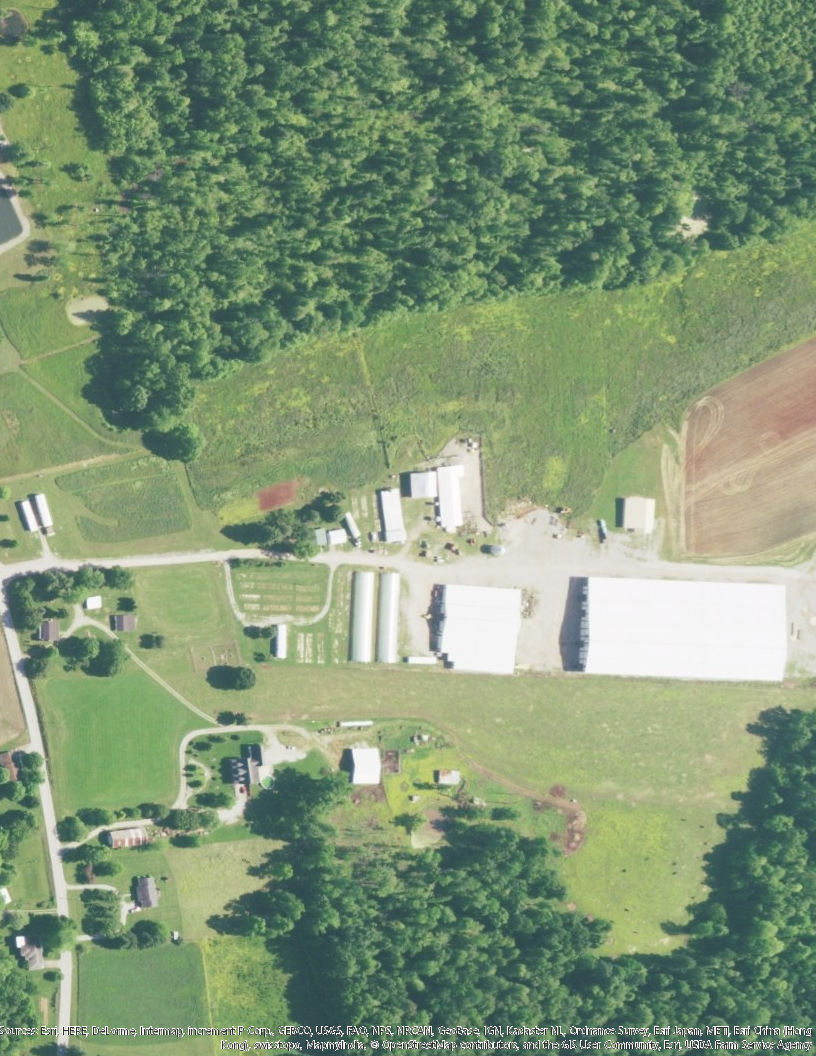cafo: (334, 456, 531, 684), (574, 571, 796, 686)
